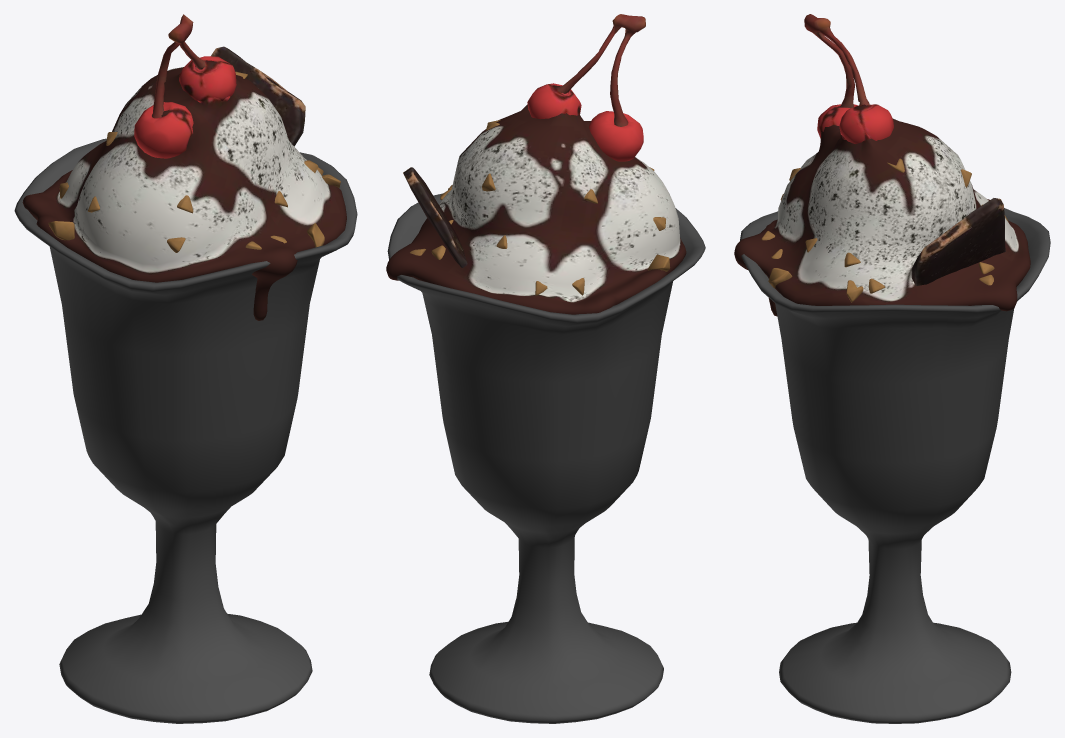
Rendered from sundae_cone.glb.
3 renders of one model, left to right at view 1: azimuth 30°, elevation 25°; view 2: azimuth 150°, elevation 25°; view 3: azimuth 270°, elevation 25°, orthographic. The views are drawn at different scales.
Visible parts, largest first — view 1: Glass_LP_Glass_0, Ice_LP_Ice-Cream_0, GeoSphere003_Caramel_0; view 2: Glass_LP_Glass_0, Ice_LP_Ice-Cream_0, GeoSphere003_Caramel_0; view 3: Glass_LP_Glass_0, Ice_LP_Ice-Cream_0, GeoSphere003_Caramel_0.
Part boxes in pixels (x1=…): Glass_LP_Glass_0: x1=14, y1=138, x2=357, y2=723; Ice_LP_Ice-Cream_0: x1=22, y1=14, x2=346, y2=320; GeoSphere003_Caramel_0: x1=48, y1=71, x2=340, y2=252; Glass_LP_Glass_0: x1=387, y1=193, x2=705, y2=723; Ice_LP_Ice-Cream_0: x1=386, y1=14, x2=686, y2=314; GeoSphere003_Caramel_0: x1=410, y1=120, x2=670, y2=295; Glass_LP_Glass_0: x1=740, y1=208, x2=1050, y2=723; Ice_LP_Ice-Cream_0: x1=734, y1=14, x2=1030, y2=316; GeoSphere003_Caramel_0: x1=761, y1=158, x2=1008, y2=302.
Size of the model in its own units: 0.1762 by 0.4004 by 0.1792.
3 materials, 2 textured.
